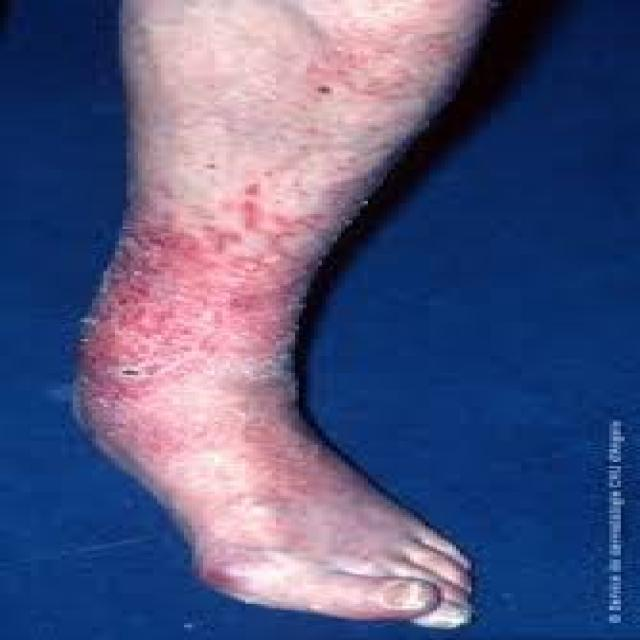Eczema: (86, 187, 318, 522)
